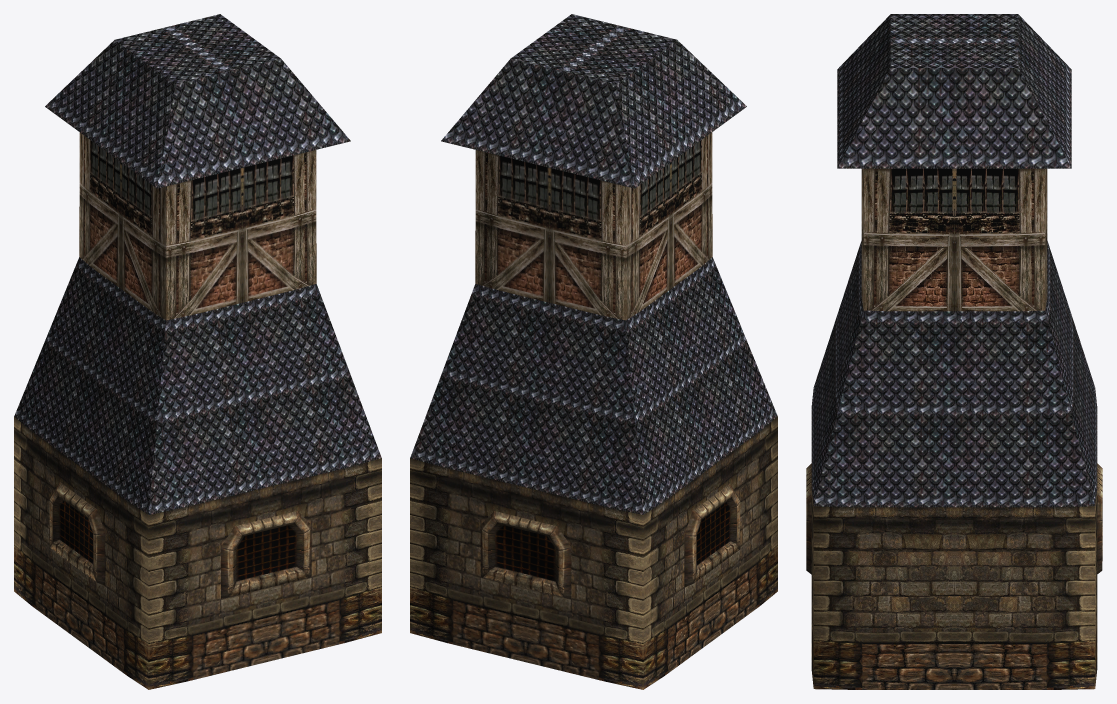
File: loc1_05.glb
3 views of the same model, side by side, from view 1: azimuth 30°, elevation 25°; view 2: azimuth 150°, elevation 25°; view 3: azimuth 270°, elevation 25° (orthographic). The views are drawn at different scales.
Parts seen in each view (by area): view 1: loc1_05; view 2: loc1_05; view 3: loc1_05.
Boxes of the visible parts, x1,y1,x2,y2 form: loc1_05: [14, 14, 381, 689]; loc1_05: [410, 14, 777, 689]; loc1_05: [806, 14, 1102, 689].
Size of the model in its own units: 12.27 by 27.29 by 12.45.
Materials: 2 (2 with a texture image).
